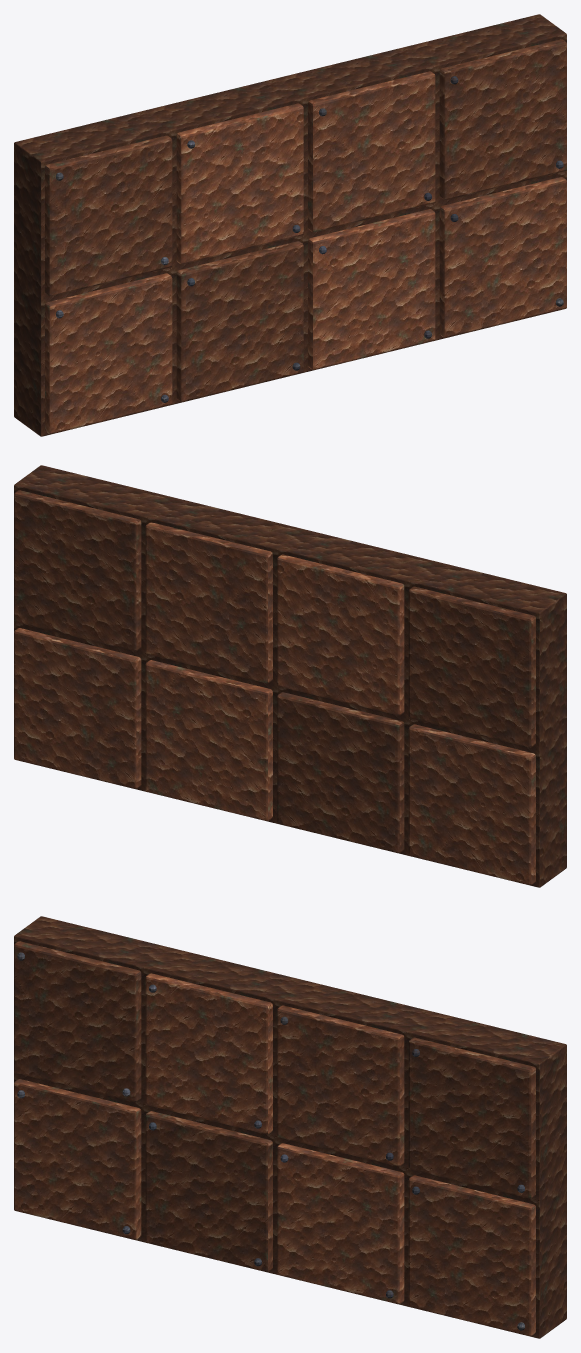
File: half_wall__copper_ingot.glb
3 views of the same model, one above another, from view 1: azimuth 30°, elevation 25°; view 2: azimuth 150°, elevation 25°; view 3: azimuth 330°, elevation 25° (orthographic).
Parts seen in each view (by area): view 1: model; view 2: model; view 3: model.
Part boxes in pixels (bbox=[...]): model: bbox=[14, 14, 566, 436]; model: bbox=[14, 465, 566, 887]; model: bbox=[14, 916, 566, 1338].
Size of the model in its own units: 2 by 1 by 0.2593.
Materials: 7 (7 with a texture image).
